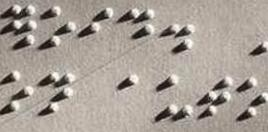Braille: (47, 69, 75, 114), (166, 73, 193, 118), (6, 70, 34, 113), (171, 7, 196, 51), (113, 73, 139, 115), (50, 5, 76, 46), (208, 73, 232, 117), (89, 5, 114, 45), (129, 7, 154, 47), (12, 4, 36, 45), (245, 75, 267, 118)
